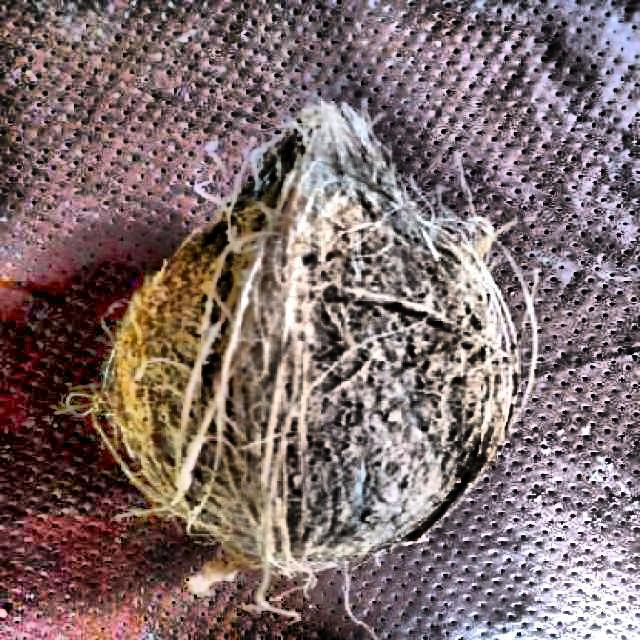good: (96, 130, 528, 568)
